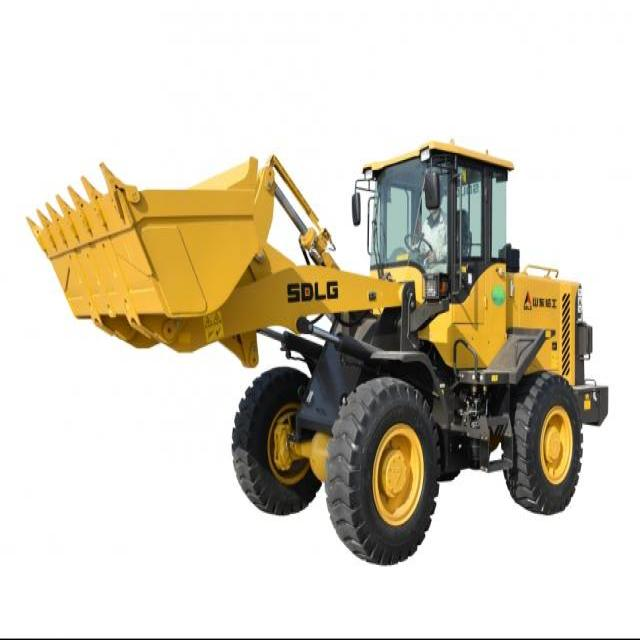buldozerpayloadergrader: (18, 129, 612, 571)
